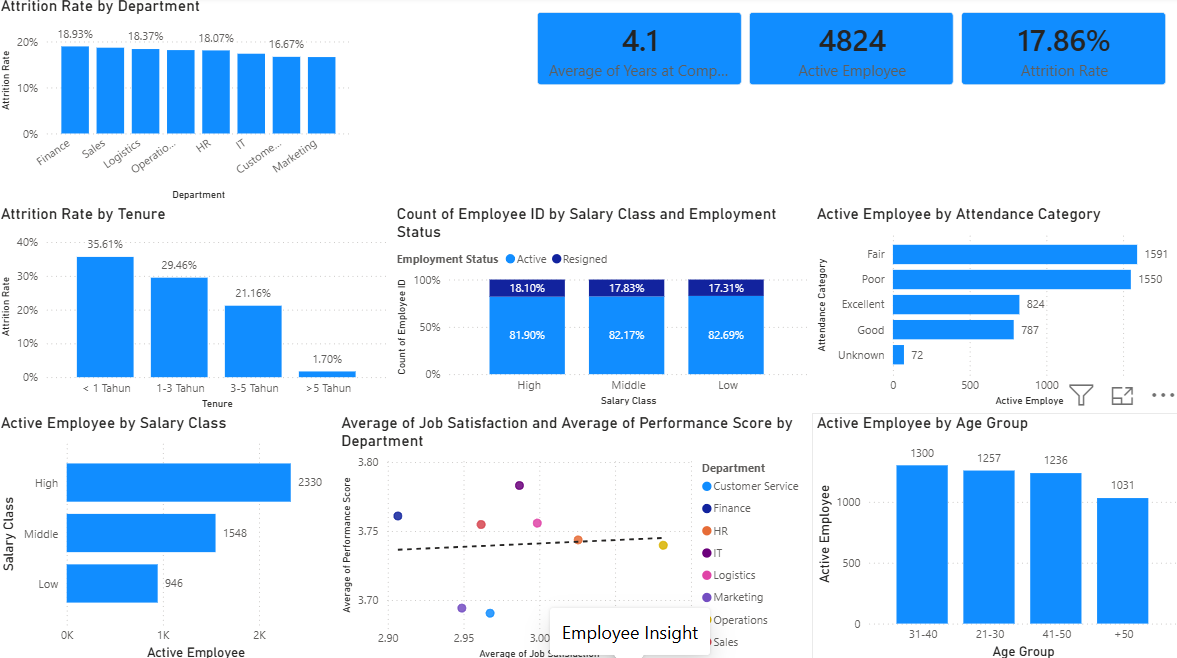

The dashboard page shown, as its layout file describes it:
{"tool":"powerbi","page":{"name":"Employee Insight","canvas":[1280,720],"ordinal":2},"visuals":[{"type":"clusteredColumnChart","fields":{"Category":["HR Data.Department"],"Y":["HR Data.Attrition Rate"]},"box":[0,0,387,225.1],"z":0},{"type":"clusteredBarChart","fields":{"Category":["HR Data.Salary Class"],"Y":["HR Data.Active Employee"]},"box":[0,450.1,367.6,270.4],"z":1000},{"type":"clusteredBarChart","fields":{"Category":["HR Data.Attendance Category"],"Y":["HR Data.Active Employee"]},"box":[880.9,225.1,399.9,221.8],"z":2000},{"type":"scatterChart","fields":{"Y":["Avg(HR Data.Performance Score)"],"X":["Avg(HR Data.Job Satisfaction)"],"Series":["DimDepartment.Department"]},"box":[367.6,450.1,513.3,270.4],"z":4000},{"type":"clusteredColumnChart","fields":{"Category":["HR Data.Tenure"],"Y":["HR Data.Attrition Rate"]},"box":[0,225.1,427.5,225.1],"z":5000},{"type":"hundredPercentStackedColumnChart","fields":{"Category":["HR Data.Salary Class"],"Series":["HR Data.Employment Status"],"Y":["CountNonNull(HR Data.Employee ID)"]},"box":[427.5,225.1,453.4,221.8],"z":6000},{"type":"cardVisual","fields":{"Data":["Avg(HR Data.Years at Company)","HR Data.Active Employee","HR Data.Attrition Rate"]},"box":[566.7,0,714.1,113.3],"z":7000},{"type":"clusteredColumnChart","fields":{"Category":["HR Data.Age Group"],"Y":["HR Data.Active Employee"]},"box":[881,450,399,270],"z":8000}]}

Visuals, with their boxes in screenshot pixels (x1, y1, x2, y2), scaled from the page's 1280x720 canvas onto the 1177x658 screenshot:
clusteredColumnChart - HR Data.Department x HR Data.Attrition Rate: (x1=0, y1=0, x2=356, y2=206)
clusteredBarChart - HR Data.Salary Class x HR Data.Active Employee: (x1=0, y1=411, x2=338, y2=657)
clusteredBarChart - HR Data.Attendance Category x HR Data.Active Employee: (x1=810, y1=206, x2=1176, y2=408)
scatterChart - Avg(HR Data.Performance Score) x Avg(HR Data.Job Satisfaction): (x1=338, y1=411, x2=810, y2=657)
clusteredColumnChart - HR Data.Tenure x HR Data.Attrition Rate: (x1=0, y1=206, x2=393, y2=411)
hundredPercentStackedColumnChart - HR Data.Salary Class x HR Data.Employment Status: (x1=393, y1=206, x2=810, y2=408)
cardVisual - Avg(HR Data.Years at Company) x HR Data.Active Employee: (x1=521, y1=0, x2=1176, y2=104)
clusteredColumnChart - HR Data.Age Group x HR Data.Active Employee: (x1=810, y1=411, x2=1176, y2=657)
